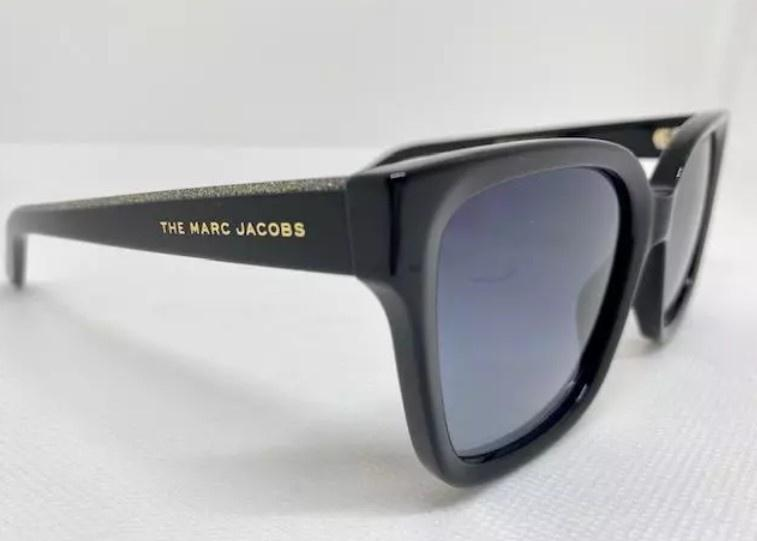MARC-JACOBS: (189, 220, 306, 240)
